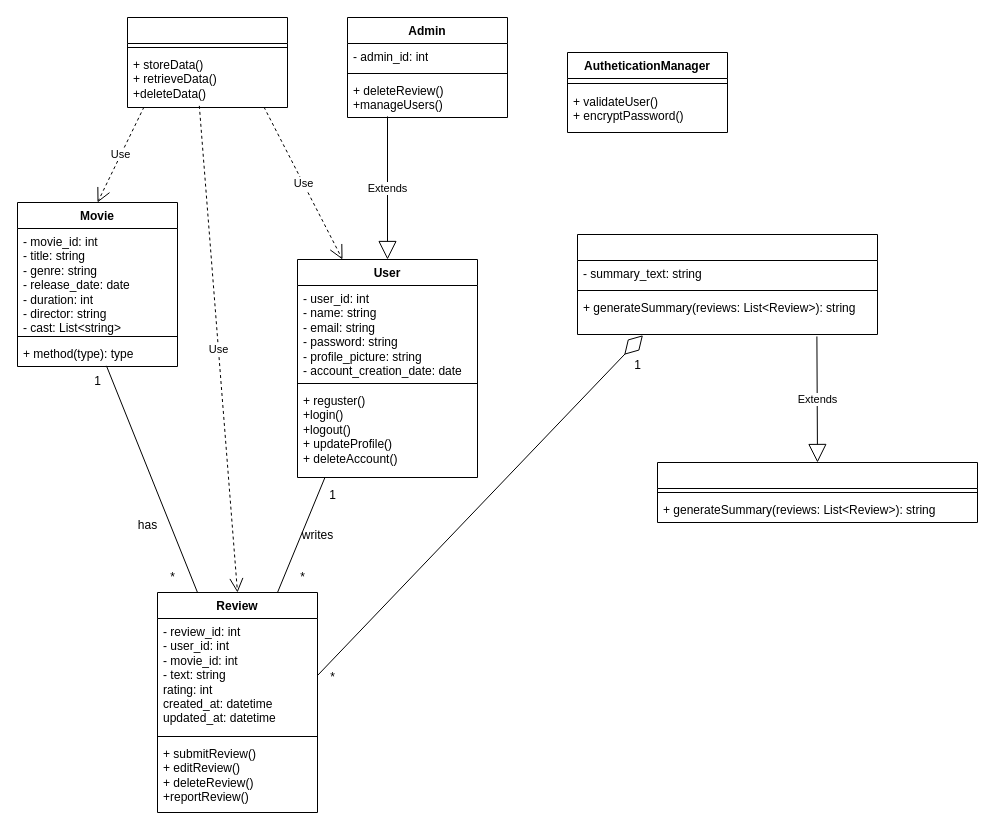
The diagram is 995 pixels wide and 833 high, and some of its shapes have lost their labels. The shapes that lost their labels are listed below. From the top down, each one's box as (x1, y1, x2, y2) in pixels, then its label:
(126, 16, 288, 108): DatabaseManager
(576, 234, 878, 334): ReviewSummarizer
(656, 462, 978, 522): ISummarizer
